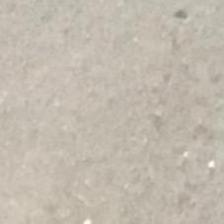Non_Crack: (21, 42, 198, 197)
